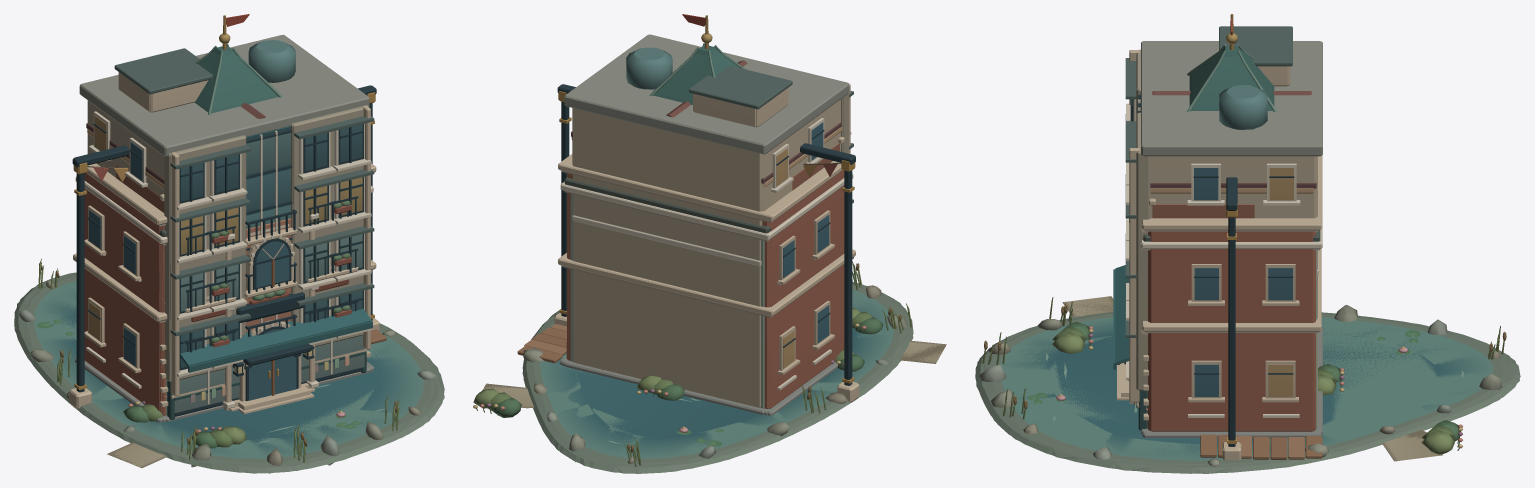
Rendered from street-kit.glb.
3 views of the same model, side by side, from view 1: azimuth 30°, elevation 25°; view 2: azimuth 150°, elevation 25°; view 3: azimuth 270°, elevation 25° (orthographic). The views are drawn at different scales.
Visible parts, largest first — view 1: AcademicHall, CampusLibrary, ParkPond, ParkPondFar, MilkMarket, AcademicHallFar, Dormitory, StreetGate, CampusClockFar, ParkWalk, MilkMarketFar, CampusClock (+3 smaller); view 2: AcademicHall, AcademicHallFar, ParkPond, CampusLibrary, ParkPondFar, MilkMarket, StreetGate, ParkWalk, CampusClockFar, ParkWalkFar, TeaCorner, CampusClock (+3 smaller); view 3: CampusLibrary, AcademicHall, ParkPond, ParkPondFar, AcademicHallFar, MilkMarket, ParkWalk, CampusClockFar, StreetGate, Dormitory, CampusLibraryFar, ParkWalkFar (+1 smaller).
Part boxes in pixels (box(x1,y1,x2,y2)): AcademicHall: box(79, 35, 374, 421); CampusLibrary: box(73, 156, 376, 422); ParkPond: box(14, 258, 444, 473); ParkPondFar: box(14, 262, 444, 473); MilkMarket: box(75, 177, 373, 422); AcademicHallFar: box(80, 40, 369, 421); Dormitory: box(86, 103, 358, 364); StreetGate: box(69, 85, 379, 408); CampusClockFar: box(196, 15, 279, 113); ParkWalk: box(107, 401, 246, 467); MilkMarketFar: box(76, 176, 373, 419); CampusClock: box(194, 14, 282, 115); AcademicHall: box(564, 34, 853, 414); AcademicHallFar: box(564, 48, 850, 414); ParkPond: box(517, 261, 913, 473); CampusLibrary: box(558, 136, 855, 415); ParkPondFar: box(522, 263, 913, 473); MilkMarket: box(560, 174, 853, 415); StreetGate: box(554, 84, 859, 402); ParkWalk: box(473, 308, 946, 417); CampusClockFar: box(650, 15, 743, 104); ParkWalkFar: box(473, 310, 945, 417); TeaCorner: box(572, 215, 761, 266); CampusClock: box(649, 14, 746, 104); CampusLibrary: box(1117, 156, 1321, 437); AcademicHall: box(1124, 26, 1322, 433); ParkPond: box(975, 297, 1520, 473); ParkPondFar: box(976, 300, 1519, 473); AcademicHallFar: box(1125, 41, 1322, 433); MilkMarket: box(1113, 155, 1322, 435); ParkWalk: box(1052, 296, 1462, 461); CampusClockFar: box(1187, 14, 1274, 111); StreetGate: box(1222, 177, 1241, 460); Dormitory: box(1150, 91, 1316, 193); CampusLibraryFar: box(1117, 200, 1320, 434); ParkWalkFar: box(1059, 297, 1462, 459).
Bounding box in the file's own units: 10.94 × 11.08 × 14.27.
